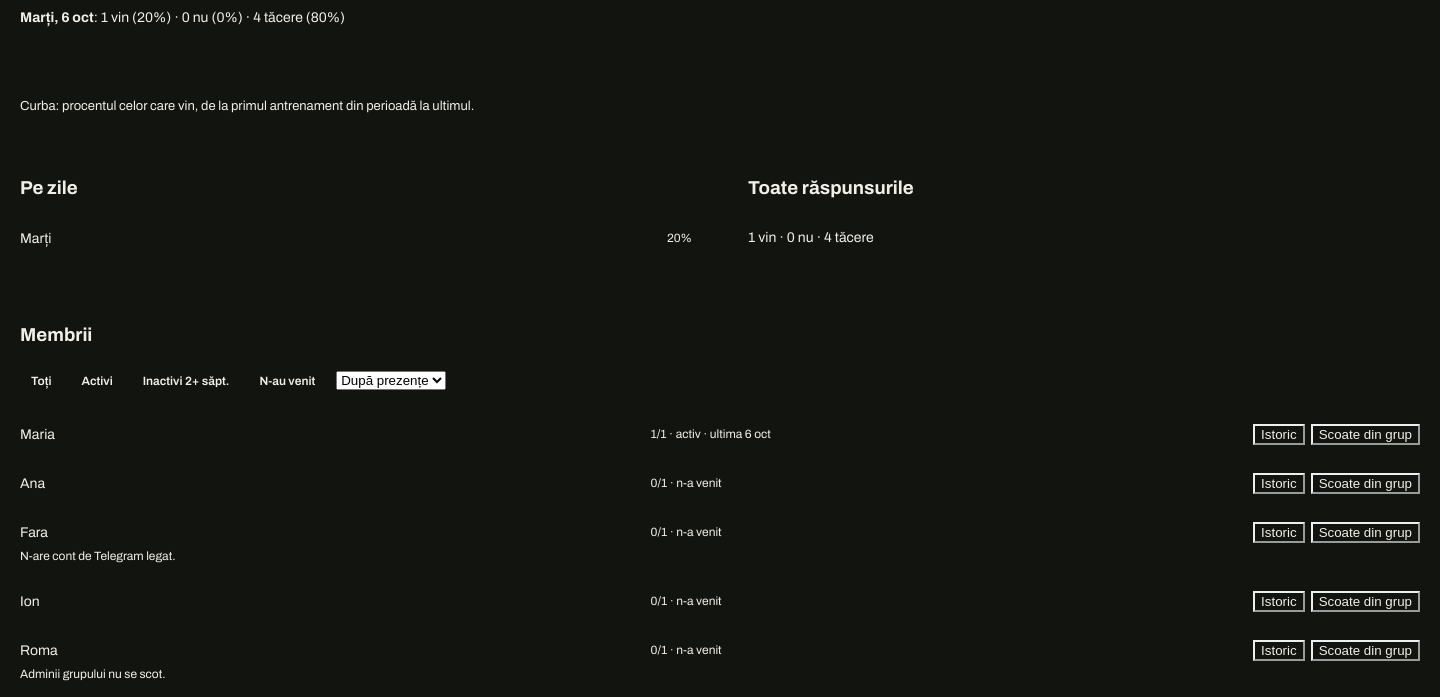
Scenario: Analiza prezențelor › istoricul unui membru arată procentul și punctele
(page scrolled)
Click the button "Istoric" in the row of "Maria": (1279, 434) [1253, 424, 1305, 445]
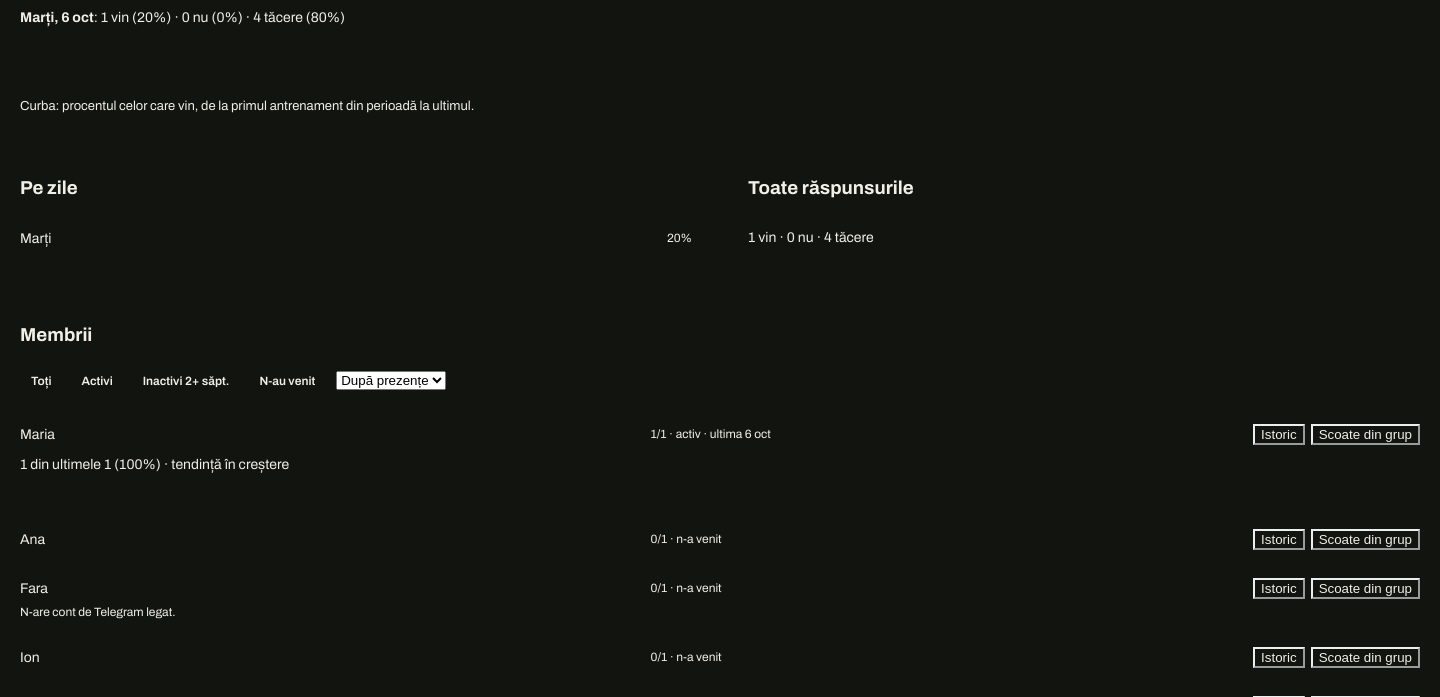
Expected: the text "1 din ultimele 1 (100%) · tendință în creștere" is shown, [20, 457, 289, 472]
